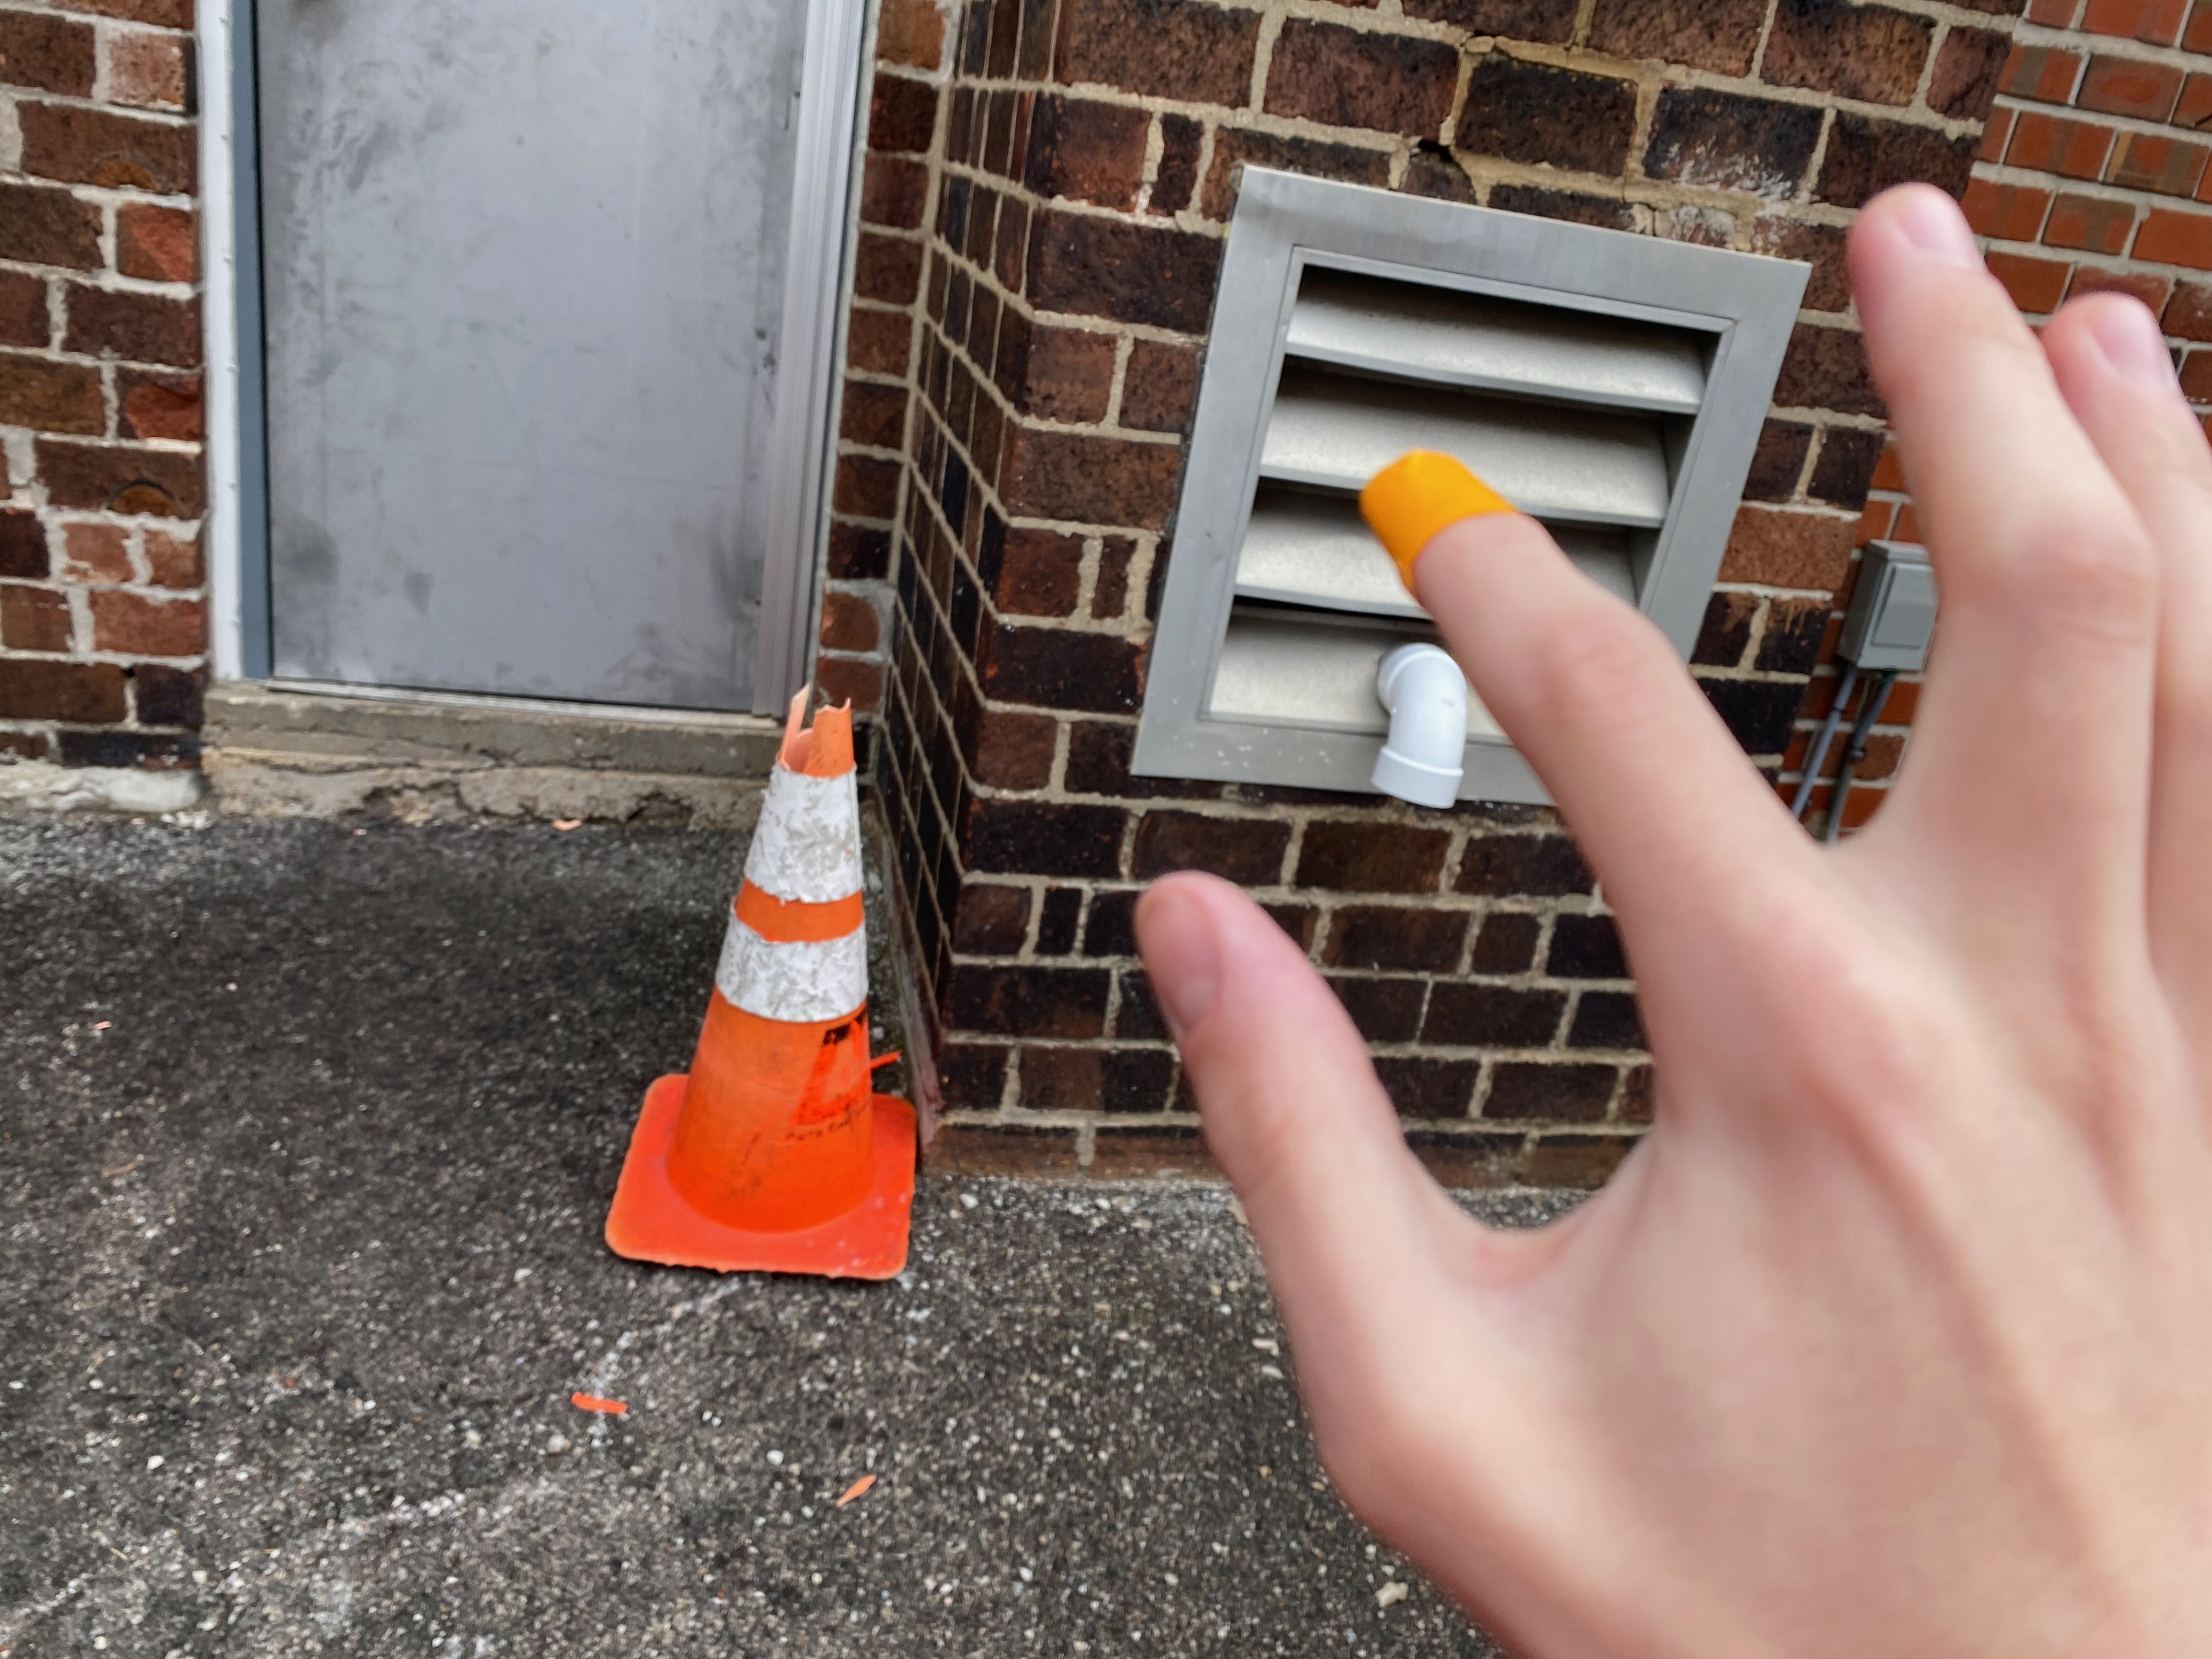fingertip: (1336, 432, 1529, 598)
